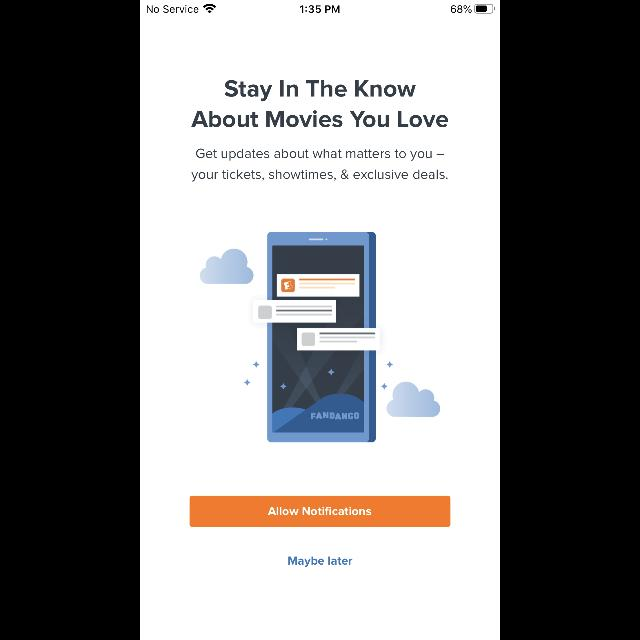image: (200, 232, 440, 442)
text: (192, 80, 448, 128), (191, 148, 447, 182), (288, 557, 352, 567)
textbutton: (190, 496, 450, 526)
uppertaskbar: (140, 0, 500, 14)
